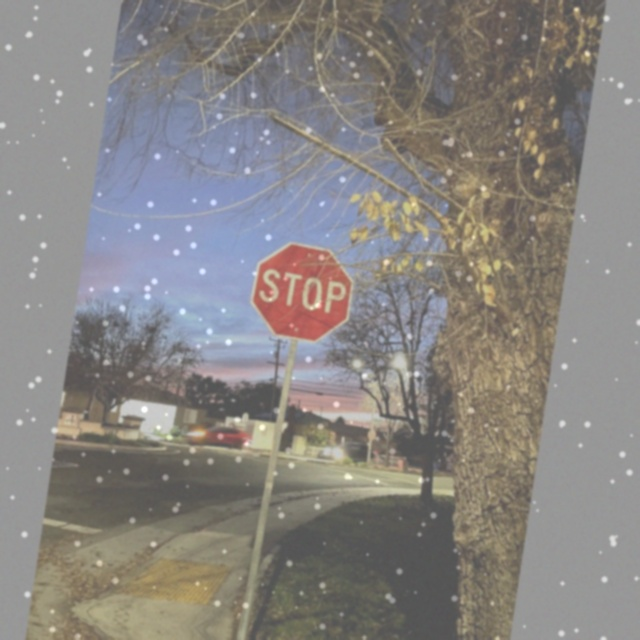Stop: (245, 239, 358, 349)
